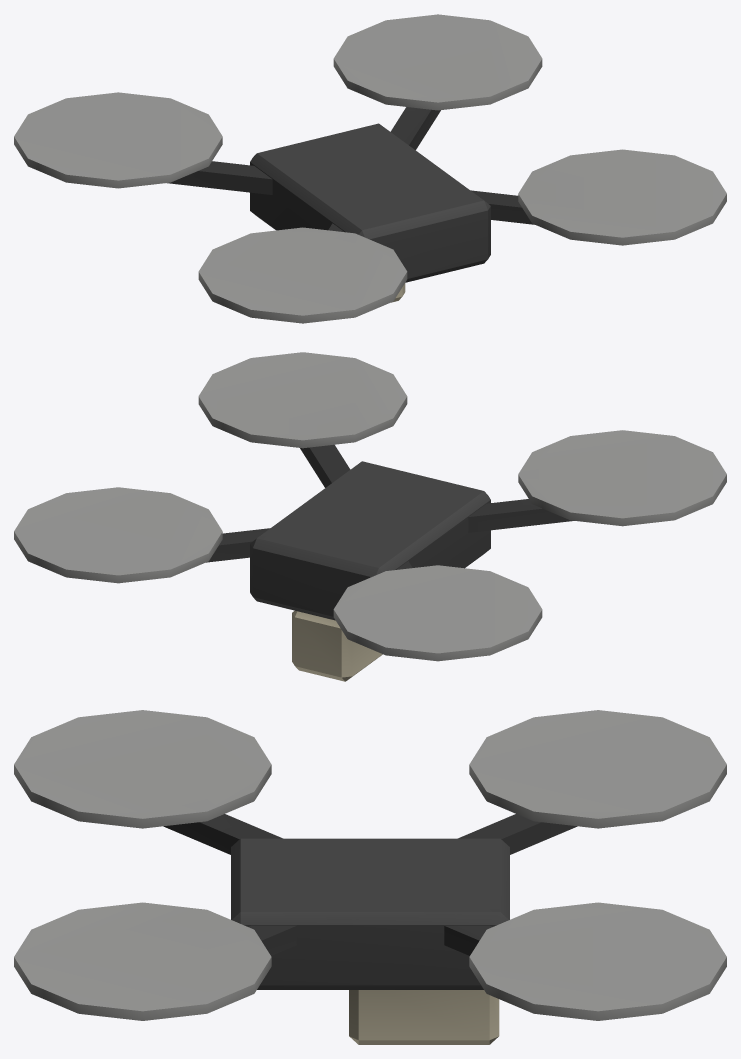
The model's file is fpv_rus.glb.
3 renders of one model, top to bottom at view 1: azimuth 30°, elevation 25°; view 2: azimuth 150°, elevation 25°; view 3: azimuth 270°, elevation 25°, orthographic. The views are drawn at different scales.
Visible parts, largest first — view 1: body; view 2: body; view 3: body.
Part boxes in pixels (x1,y1,x2,y2): body: [14, 14, 726, 323]; body: [14, 352, 726, 681]; body: [14, 710, 726, 1044].
Bounding box in the file's own units: 0.5035 × 0.1327 × 0.5035.
